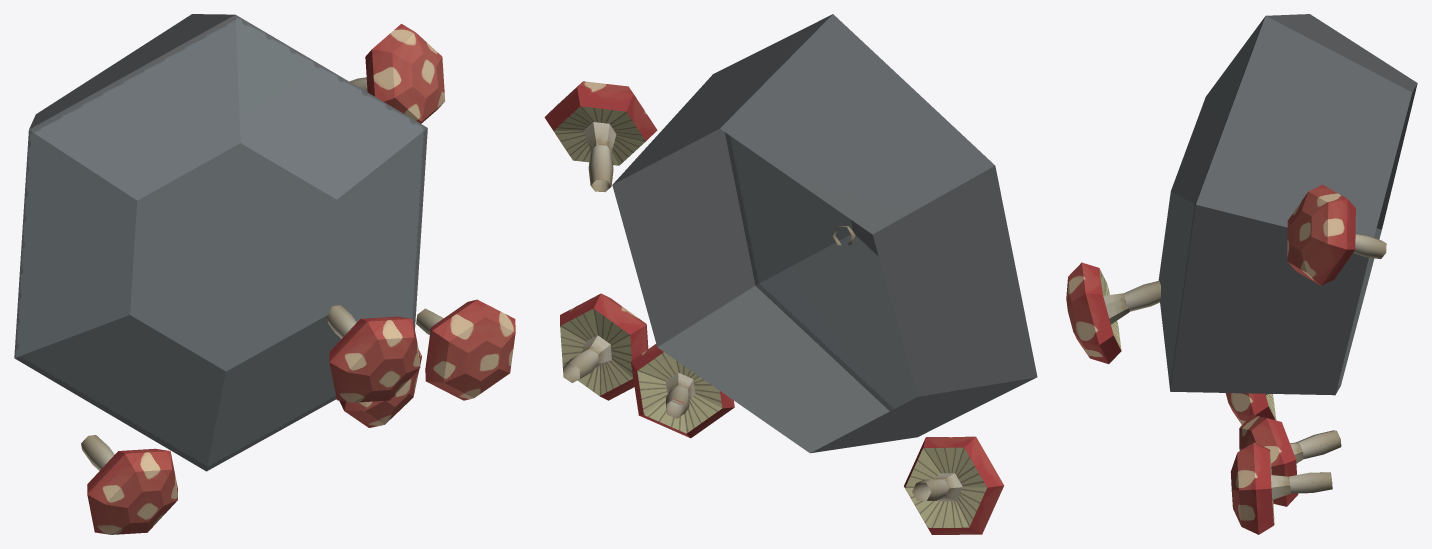
File: MushroomRock.fbx
The picture shows the model from 3 angles, left to right: view 1: azimuth 30°, elevation 25°; view 2: azimuth 150°, elevation 25°; view 3: azimuth 270°, elevation 25°; orthographic projection. The views are drawn at different scales.
Parts seen in each view (by area): view 1: MushroomRock; view 2: MushroomRock; view 3: MushroomRock.
Boxes of the visible parts, bbox=[...] form: MushroomRock: bbox=[14, 14, 515, 534]; MushroomRock: bbox=[544, 14, 1037, 534]; MushroomRock: bbox=[1066, 14, 1417, 534].
Size of the model in its own units: 1580 by 1525 by 1047.
1 material, 1 textured.
